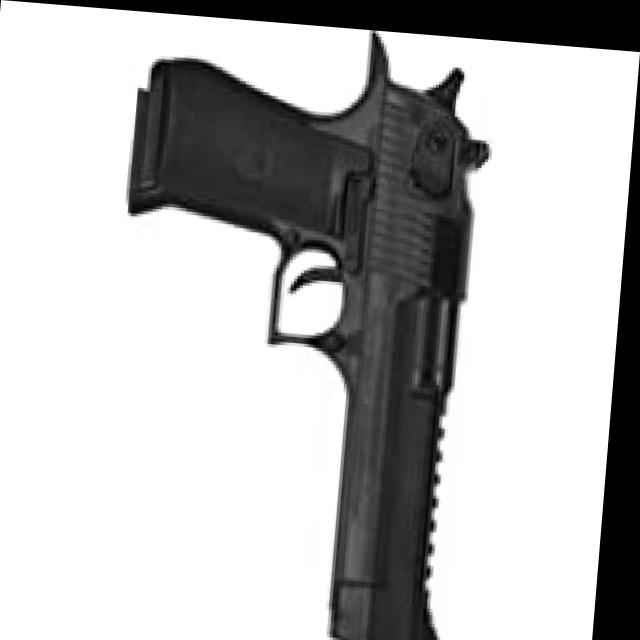handgun: (50, 6, 503, 640)
